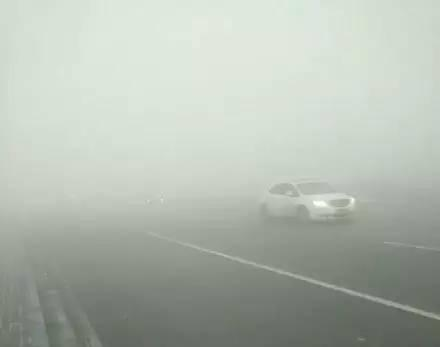car: (257, 178, 360, 224)
